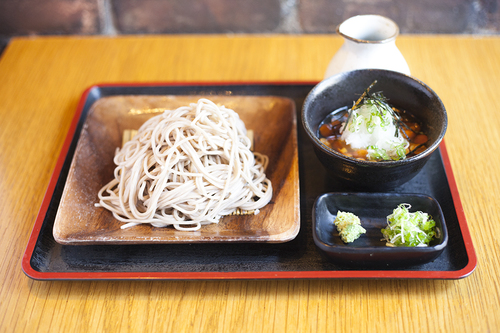Soba: (105, 101, 286, 227)
